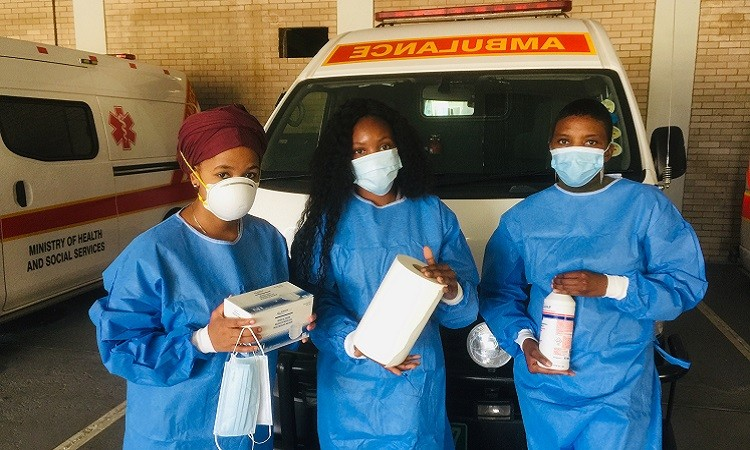Coverall: (480, 177, 711, 450), (89, 208, 293, 450), (292, 195, 480, 450)
with_mask: (201, 165, 262, 224), (549, 133, 608, 189), (350, 138, 402, 196)
